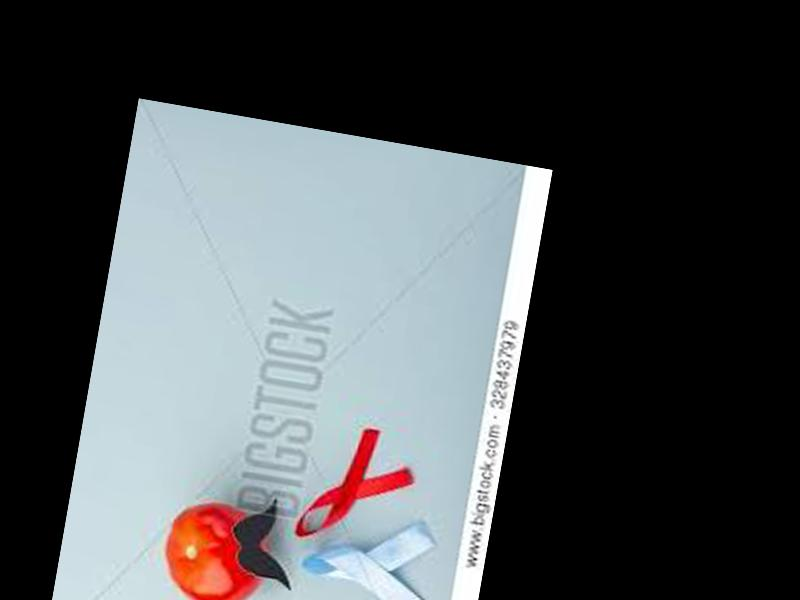Tomato: (156, 495, 274, 600)
